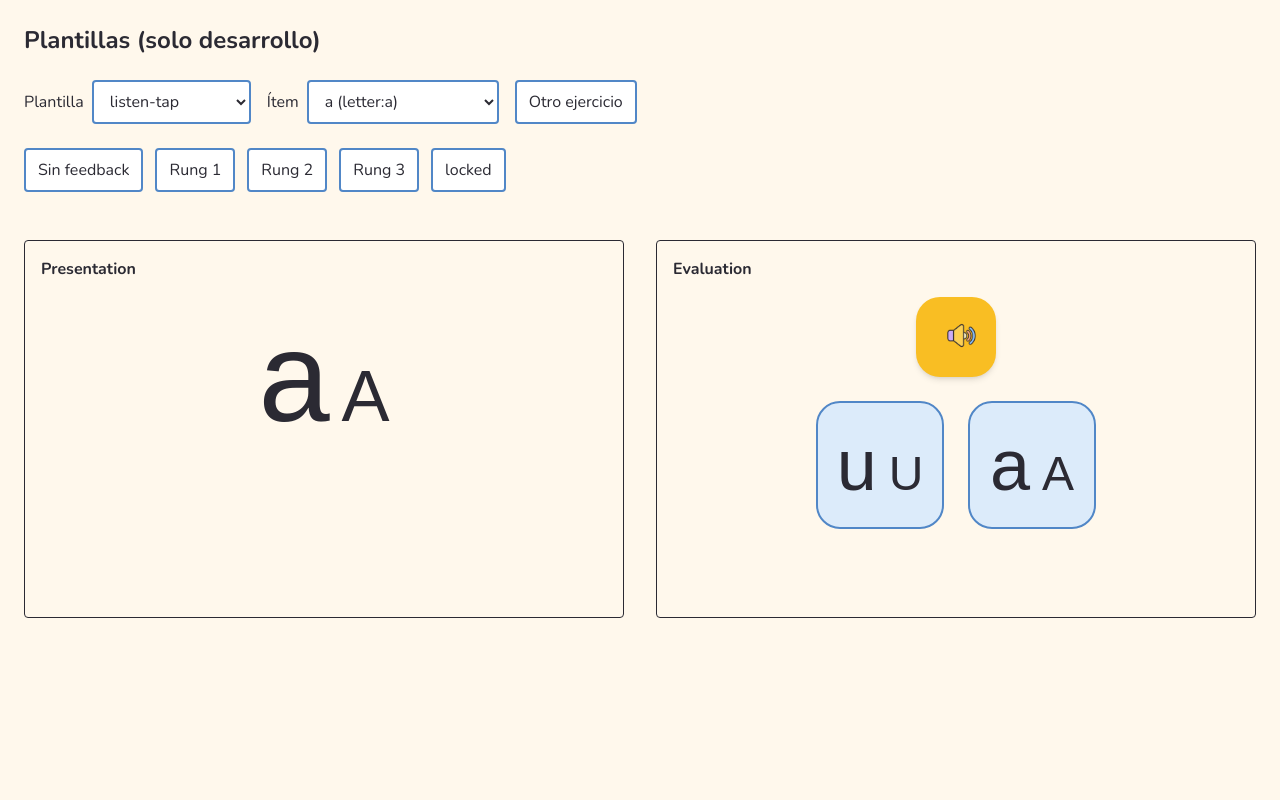
PlantillasDev › W8: las plantillas de voz con un micrófono de guion › «Sin micrófono»: salen los botones del adulto en cuanto se intenta
Select "say-it" in the dropdown labelled "Plantilla" at point(171, 102), box top-left (92, 80), bottom-right (251, 124)
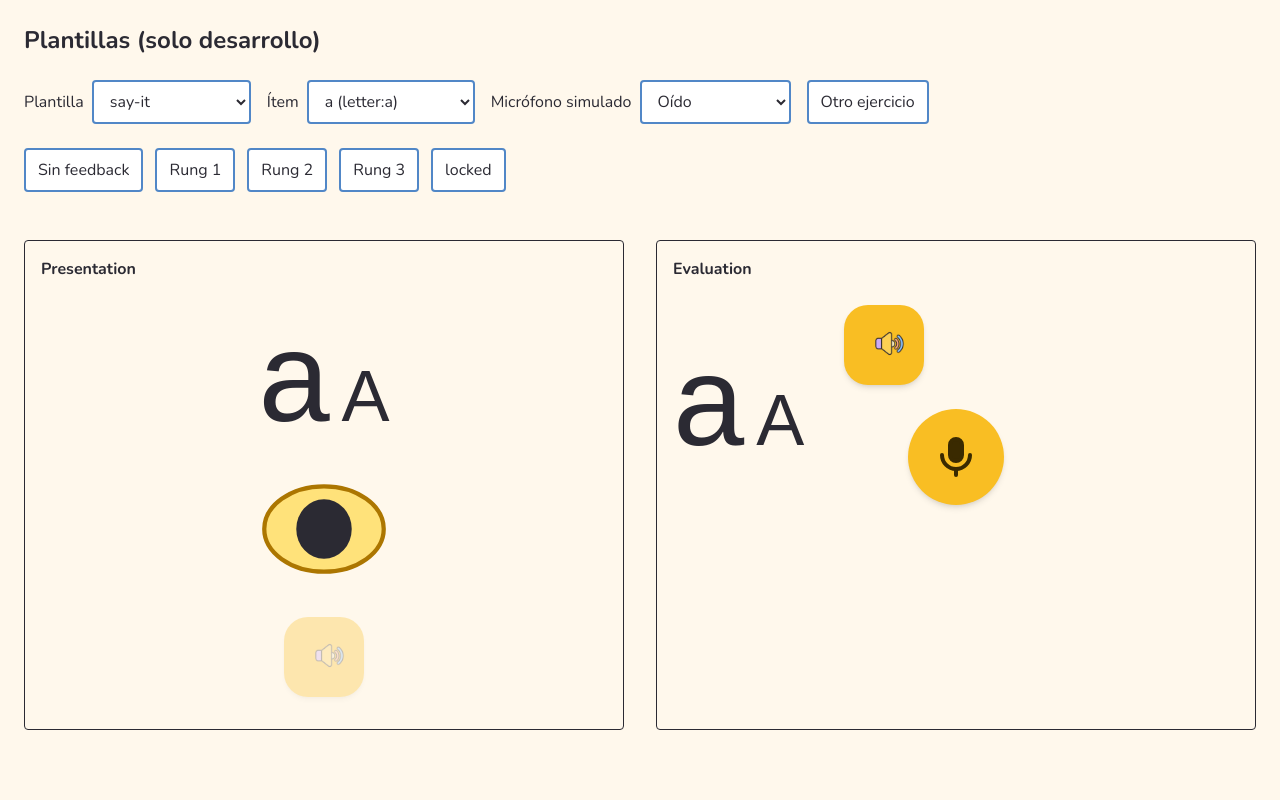
Select "Sin micrófono" in the dropdown labelled "Micrófono simulado" at point(715, 102), box top-left (640, 80), bottom-right (790, 124)
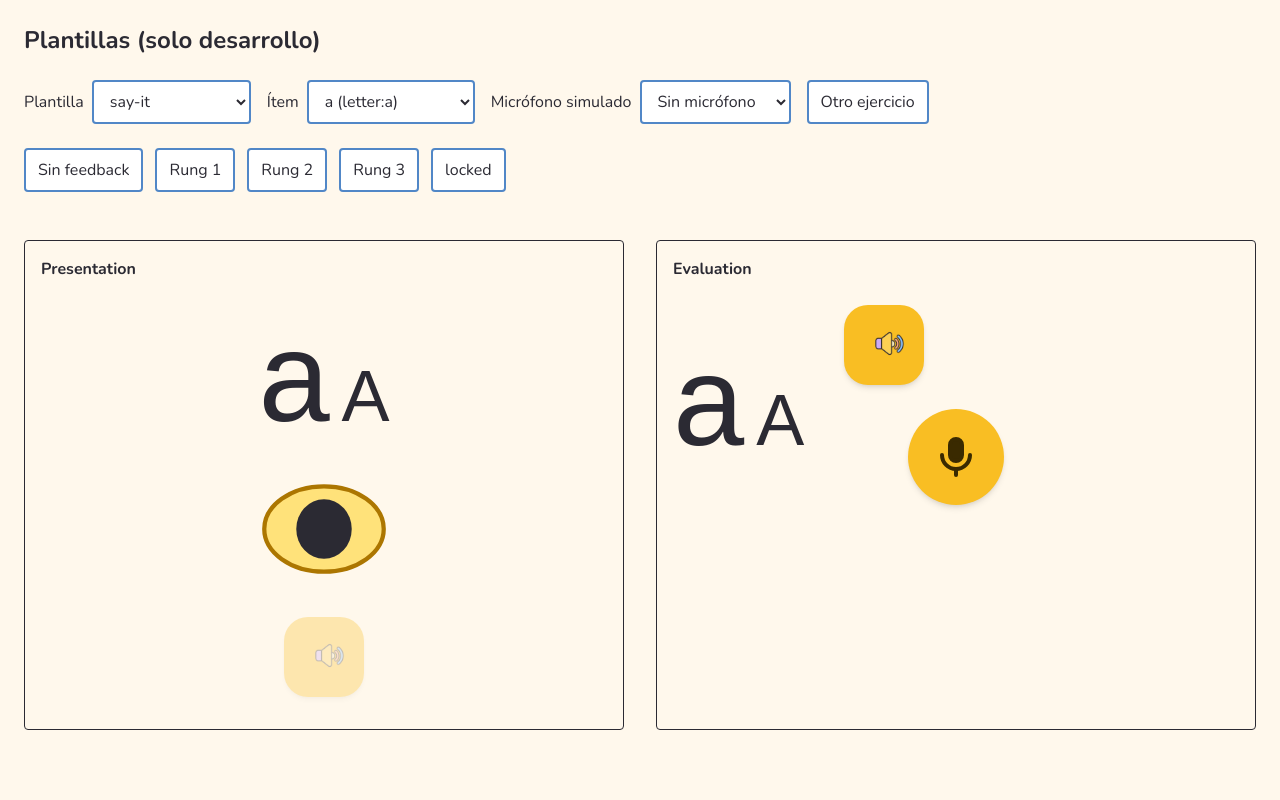
Click the button named "Micrófono" at point(956, 457), box top-left (908, 409), bottom-right (1004, 505)
Wait 950 ms
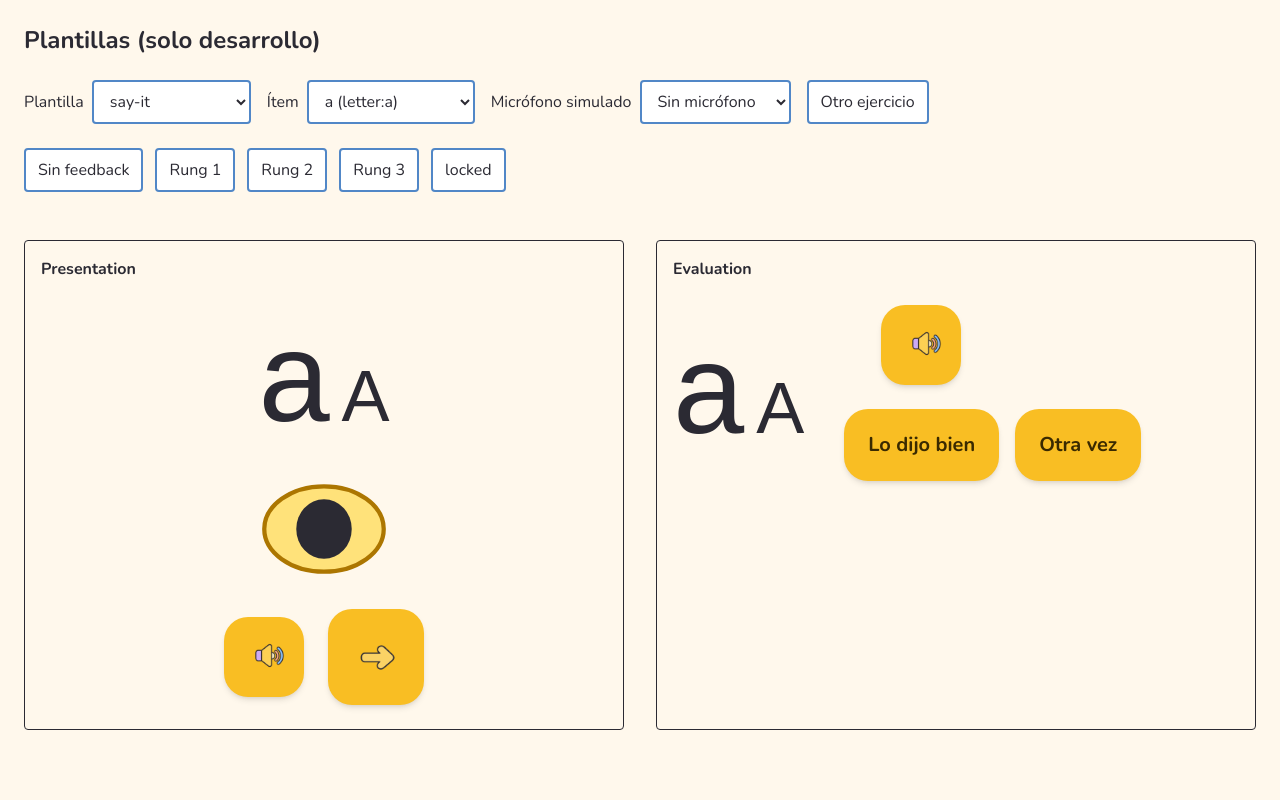
expect the button "Lo dijo bien" is shown: met, box top-left (844, 409), bottom-right (999, 481)
